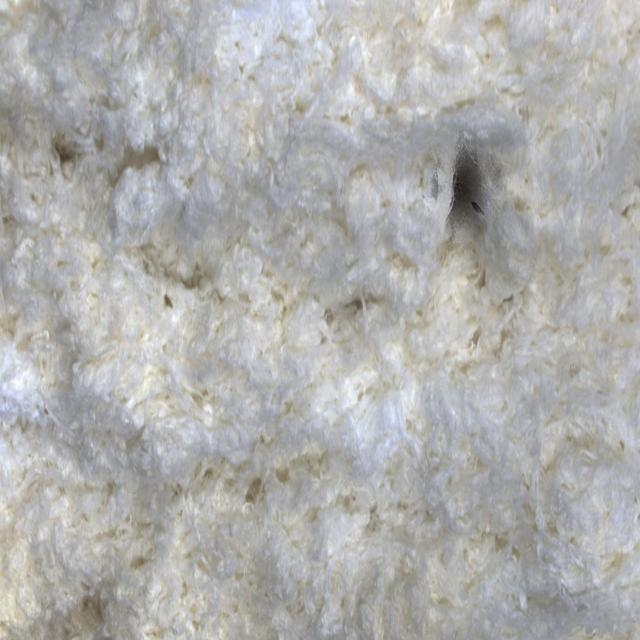dust: (409, 106, 536, 265)
